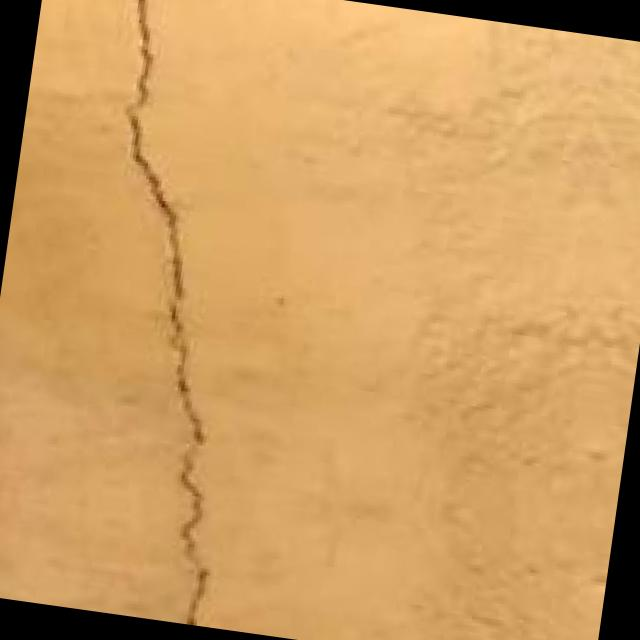crack: (13, 0, 355, 632)
